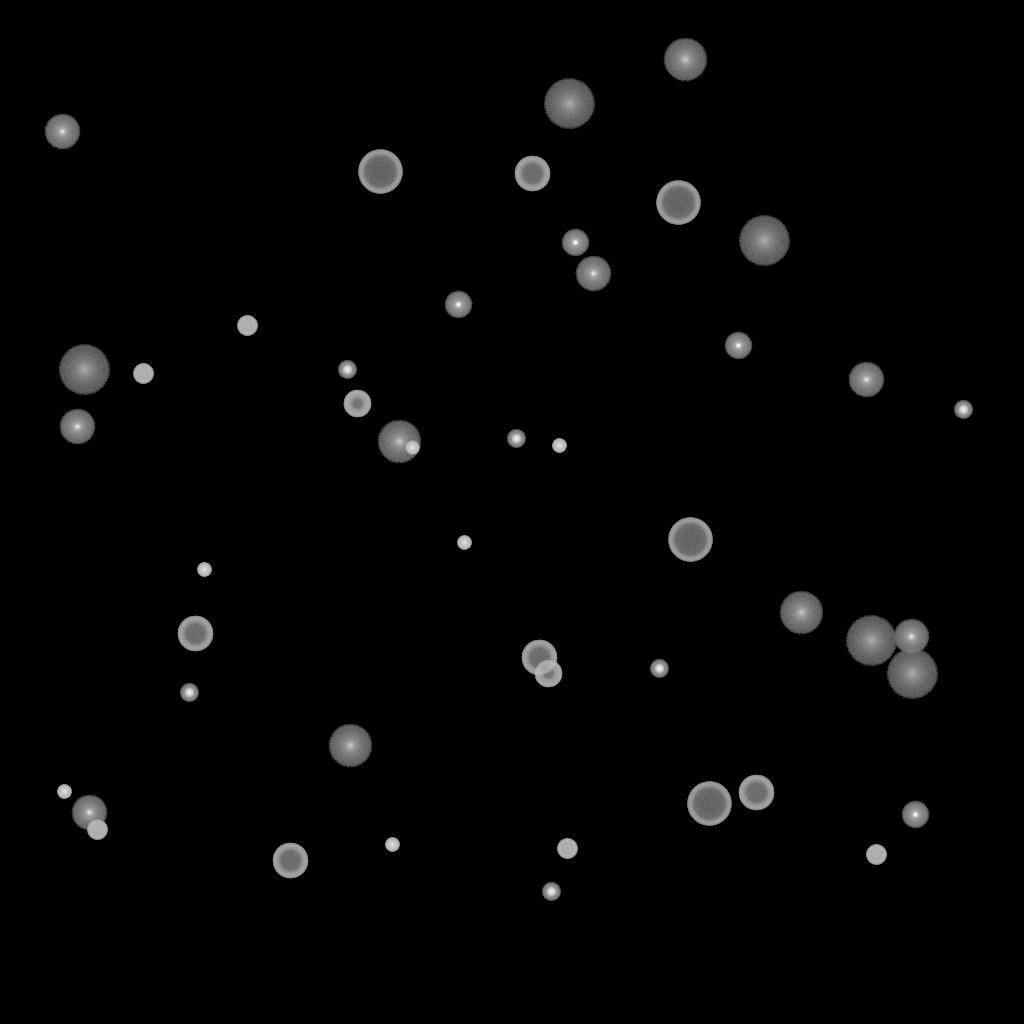depth:-10: (901, 801, 929, 829), (444, 291, 472, 319), (724, 332, 752, 360), (561, 229, 589, 257)
depth:-20: (650, 660, 668, 678), (338, 361, 356, 379), (180, 684, 198, 702), (954, 401, 972, 419), (507, 430, 525, 448), (542, 883, 560, 901)
depth:-30: (197, 563, 211, 577), (385, 838, 399, 852), (405, 441, 419, 455), (552, 439, 566, 453), (57, 785, 71, 799), (457, 536, 471, 550)
depth:-40: (557, 839, 577, 859), (133, 364, 153, 384), (87, 820, 107, 840), (237, 316, 257, 336), (866, 845, 886, 865)
depth:-50: (534, 660, 562, 688), (343, 390, 371, 418)
depth:-60: (514, 156, 550, 192), (738, 775, 774, 811), (272, 843, 308, 879), (521, 640, 557, 676), (177, 616, 213, 652)
depth:-70: (668, 518, 712, 562), (687, 782, 731, 826), (358, 150, 402, 194), (656, 181, 700, 225)
depth:0: (44, 114, 80, 150), (575, 256, 611, 292), (893, 619, 929, 655), (71, 795, 107, 831), (59, 409, 95, 445), (848, 362, 884, 398)
depth:10: (377, 420, 421, 464), (328, 724, 372, 768), (779, 591, 823, 635), (663, 38, 707, 82)
depth:20: (886, 649, 938, 699), (738, 216, 790, 266), (543, 79, 595, 129), (845, 616, 897, 666), (58, 345, 110, 395)
